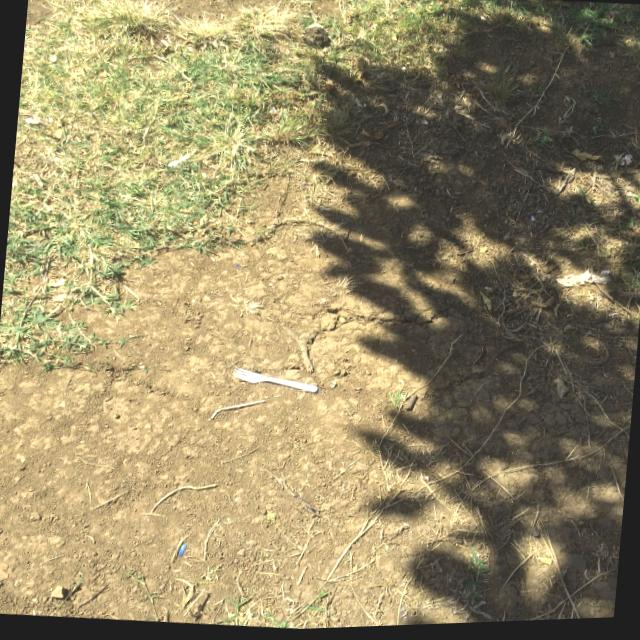Plastic: (228, 361, 328, 399), (204, 394, 268, 428)
